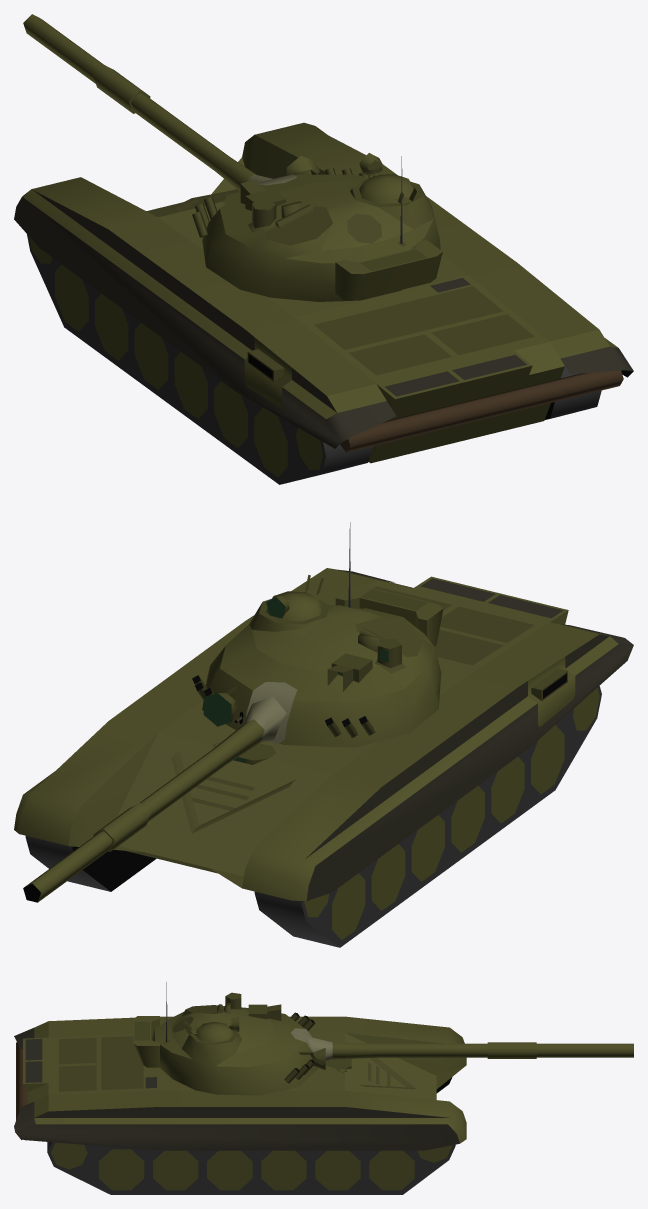
3 views of the same model, one above another, from view 1: azimuth 30°, elevation 25°; view 2: azimuth 150°, elevation 25°; view 3: azimuth 270°, elevation 25° (orthographic). The views are drawn at different scales.
Visible parts, largest first — view 1: Body, Turret, Cannon, MG_Turret; view 2: Body, Turret, Cannon, MG_Turret; view 3: Body, Turret, Cannon, MG_Turret.
Part boxes in pixels (x1,y1,x2,y2): Body: (14,122,633,484); Turret: (192,156,442,301); Cannon: (23,14,319,191); MG_Turret: (359,153,416,204); Body: (14,568,633,947); Turret: (192,522,443,747); Cannon: (23,685,286,902); MG_Turret: (266,575,323,621); Body: (14,1016,466,1194); Turret: (133,982,318,1095); Cannon: (299,1036,633,1070); MG_Turret: (183,1017,239,1042).
Bounding box in the file's own units: 3.59 × 3.12 × 9.66.
Materials: 1 (1 with a texture image).
